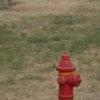Hydrant: (50, 44, 83, 100)
